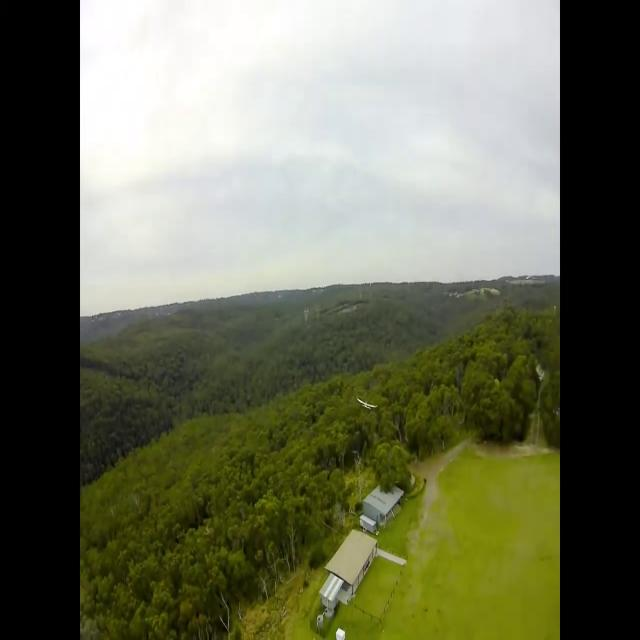iha: (355, 401, 376, 406)
